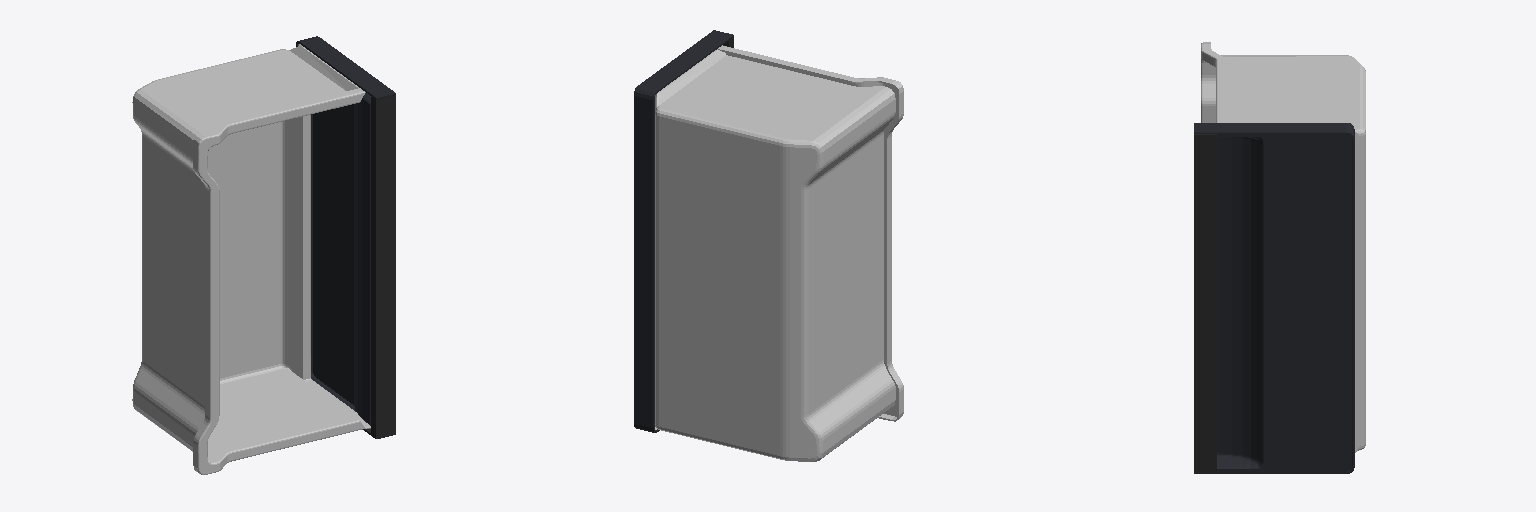
Rendered from FridgeDrawer05.obj.
The picture shows the model from 3 angles: view 1: azimuth 30°, elevation 25°; view 2: azimuth 150°, elevation 25°; view 3: azimuth 270°, elevation 25°; orthographic projection.
Visible parts, largest first — view 1: FridgeDrawer05; view 2: FridgeDrawer05; view 3: FridgeDrawer05.
Part boxes in pixels (left/top/right/bottom): FridgeDrawer05: left=132, top=36, right=395, bottom=474; FridgeDrawer05: left=634, top=30, right=903, bottom=461; FridgeDrawer05: left=1194, top=42, right=1365, bottom=473.
Bounding box in the file's own units: 0.243 × 0.409 × 0.187.